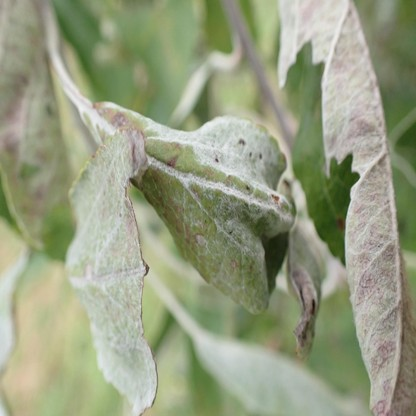powdery_mildew: (279, 2, 414, 416), (135, 101, 289, 317), (67, 123, 157, 416)
